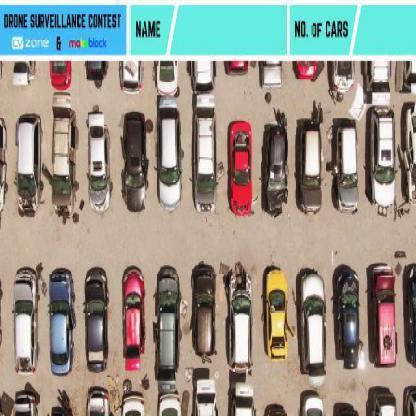car: (364, 94, 396, 209), (50, 101, 78, 218), (50, 273, 79, 379), (82, 267, 109, 379), (122, 116, 151, 215), (370, 266, 398, 368), (12, 268, 41, 365), (157, 113, 184, 212), (333, 269, 360, 368), (121, 265, 146, 371), (154, 270, 179, 376), (88, 114, 114, 214), (193, 113, 218, 215), (300, 276, 326, 372), (17, 122, 44, 213), (296, 126, 323, 217), (229, 123, 254, 214), (192, 265, 217, 356), (230, 282, 254, 370), (264, 126, 286, 215), (265, 272, 288, 357), (336, 130, 357, 209), (362, 62, 393, 98), (404, 105, 415, 205), (404, 283, 415, 371), (195, 376, 219, 415), (120, 60, 145, 97), (191, 61, 218, 94), (329, 61, 355, 94), (230, 381, 255, 415), (47, 61, 74, 92), (369, 389, 401, 415), (85, 386, 113, 415), (8, 392, 38, 415), (258, 62, 284, 88), (299, 390, 326, 415), (11, 62, 36, 88), (157, 62, 176, 95), (261, 403, 289, 415), (404, 388, 415, 415)
